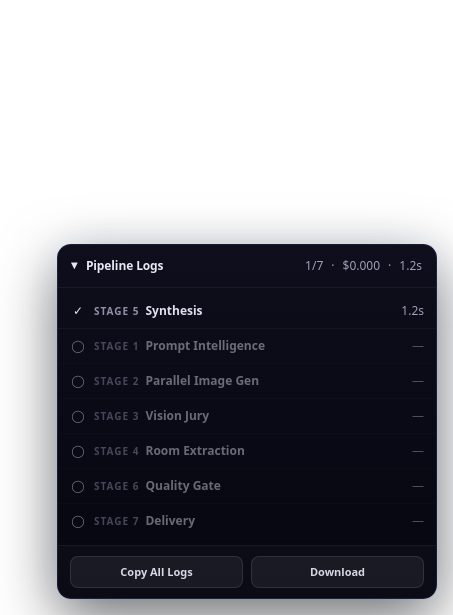
Test case: Phase 2.9 Logs Panel — enhancement block › renders REVERTED badge when either pass rolled back
The image size is (453, 615).
Click the button with test id "pipeline-logs-row" showing "✓ Stage 5Synthesis 1.2s" at (117, 310), box x1=58 y1=294 x2=436 y2=328
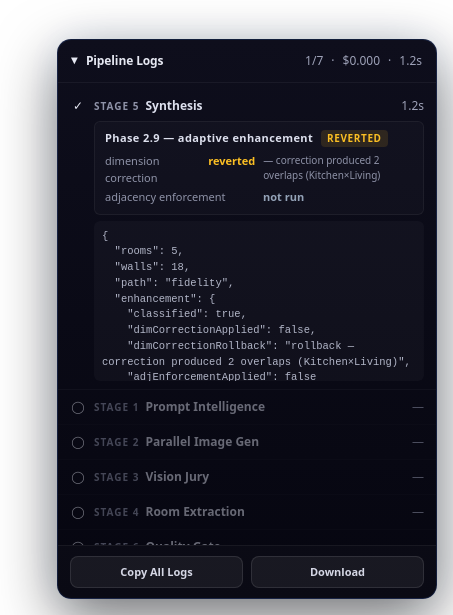
Now the element with test id "pipeline-logs-phase-29-block" shows "REVERTED", box x1=327 y1=131 x2=382 y2=145
Now the element with test id "pipeline-logs-phase-29-block" shows "Kitchen×Living", box x1=263 y1=153 x2=380 y2=182
